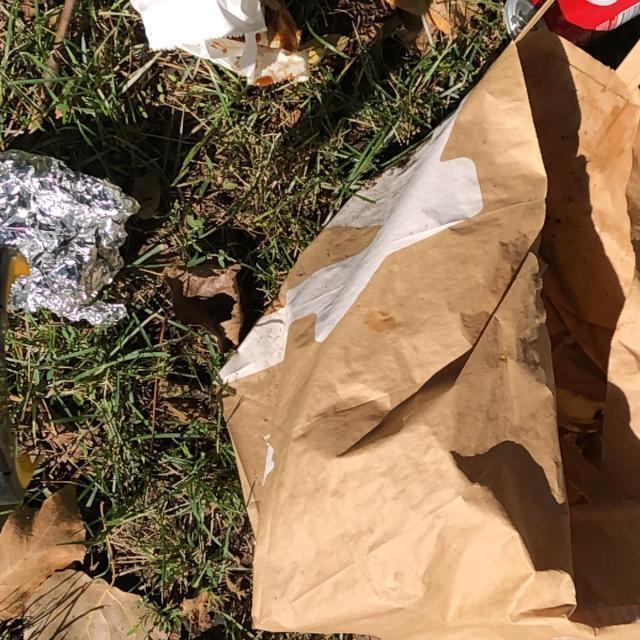Can-Metal: (504, 1, 640, 49)
Paper: (208, 0, 640, 638)
Plastic: (2, 150, 144, 332), (126, 0, 270, 71)
